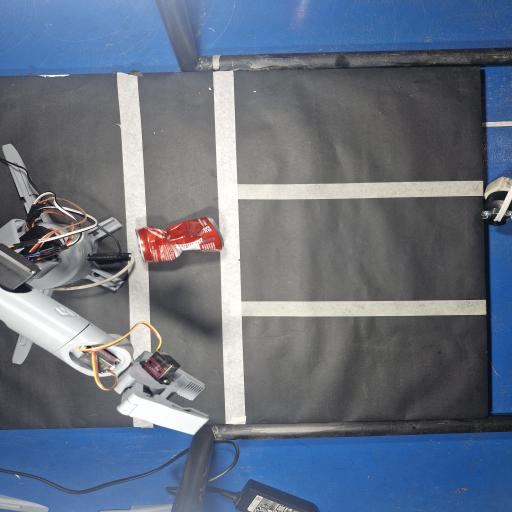lata_defectuoso: (136, 217, 223, 262)
